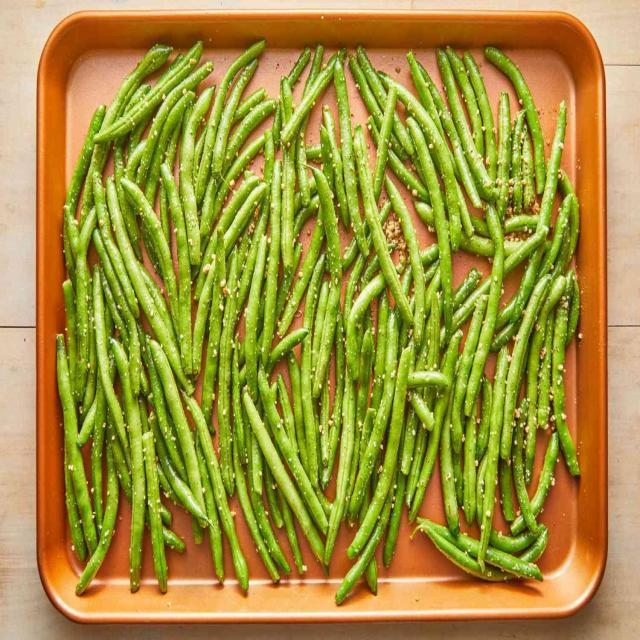Beans: (59, 49, 586, 594)
